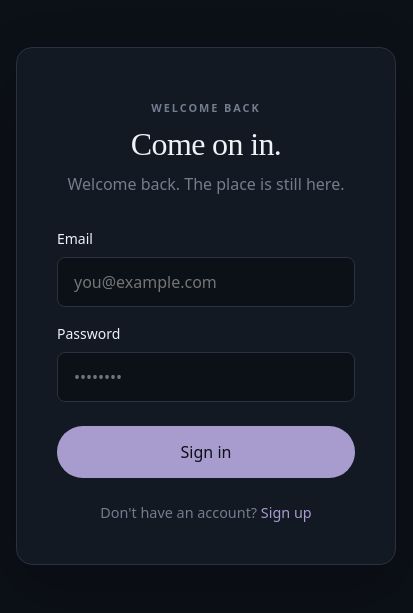
Test: Authentication Pages › Login Page › shows error on failed login
Type "test@example.com" into the field labelled "Email" at point(206, 282), box [57,257,355,307]
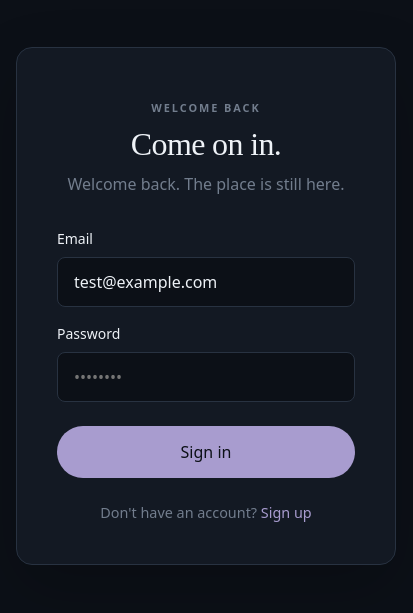
Type "wrongpassword" into the password field labelled "Password" at point(206, 377), box [57,352,355,402]
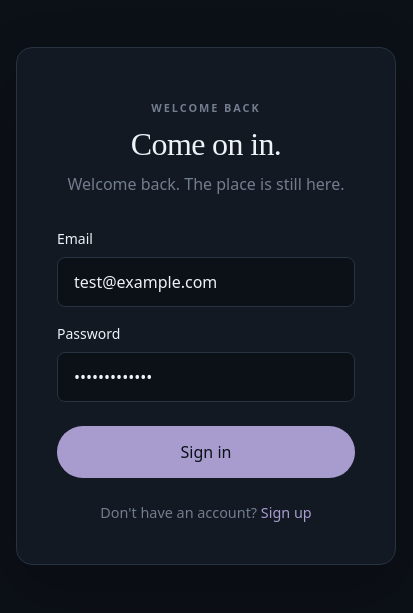
Click the button "Sign in" at point(206, 452), box [57,426,355,478]
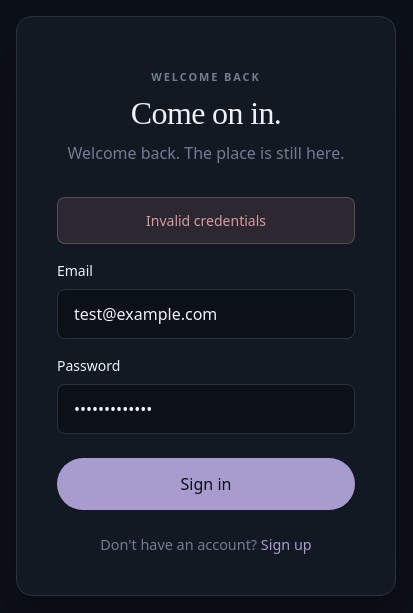
Expected: the message reads "Invalid credentials", [146,211,266,230]
